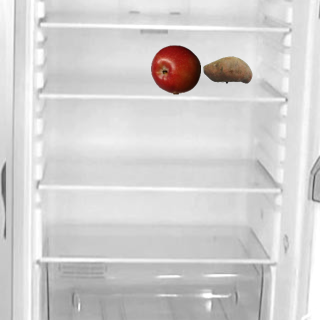Apple Braeburn: (150, 44, 200, 94)
Potato Sweet: (202, 44, 252, 94)
